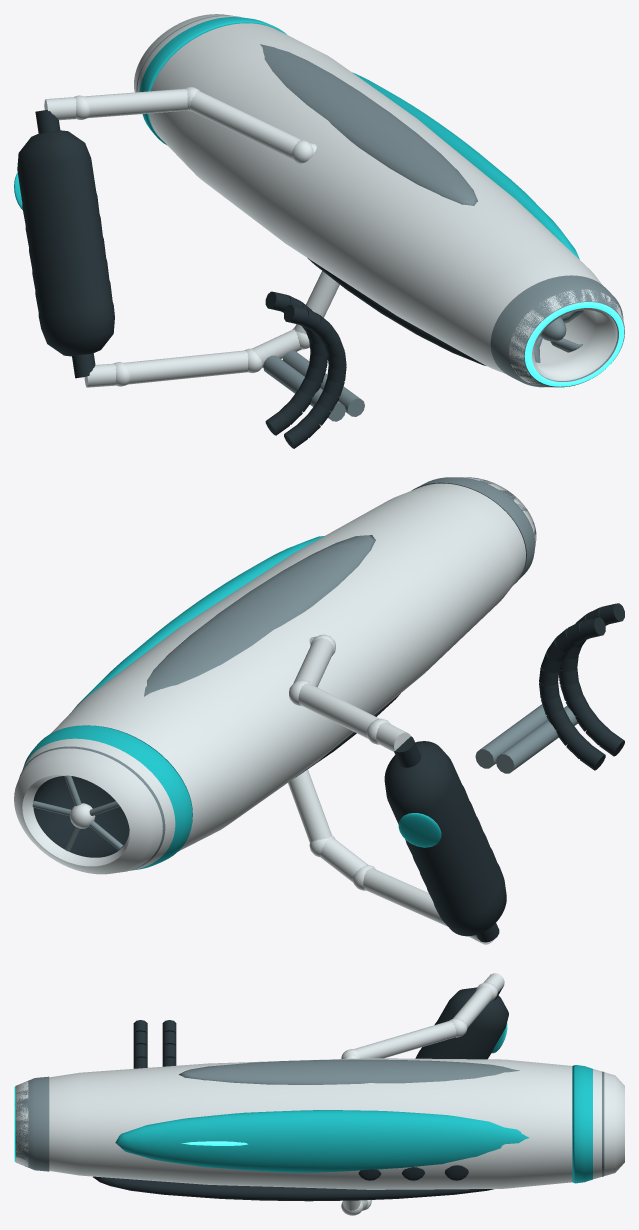
The model's file is hand_thruster.glb.
The picture shows the model from 3 angles, top to bottom: view 1: azimuth 30°, elevation 25°; view 2: azimuth 150°, elevation 25°; view 3: azimuth 270°, elevation 25°; orthographic projection. The views are drawn at different scales.
Visible parts, largest first — view 1: Ceramictitanium, Graphiteelastomer, Brushedtitanium, Inlaidturquoise, Statuslight, Impeller; view 2: Ceramictitanium, Graphiteelastomer, Brushedtitanium, Inlaidturquoise; view 3: Ceramictitanium, Inlaidturquoise, Graphiteelastomer, Brushedtitanium, Statuslight.
Boxes of the visible parts, x1,y1,x2,y2 form: Ceramictitanium: (44, 14, 624, 387); Graphiteelastomer: (17, 110, 485, 448); Brushedtitanium: (136, 15, 624, 421); Inlaidturquoise: (14, 17, 579, 259); Statuslight: (524, 302, 624, 386); Impeller: (534, 310, 583, 362); Ceramictitanium: (14, 477, 536, 944); Graphiteelastomer: (33, 603, 624, 942); Brushedtitanium: (19, 477, 577, 872); Inlaidturquoise: (23, 536, 441, 870); Ceramictitanium: (15, 973, 624, 1215); Inlaidturquoise: (115, 1023, 592, 1183); Graphiteelastomer: (93, 986, 508, 1201); Brushedtitanium: (15, 1059, 604, 1176); Statuslight: (14, 1087, 247, 1161).
Bounding box in the file's own units: 0.2092 × 0.1314 × 0.381.
